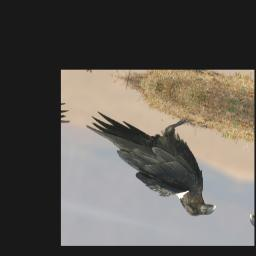Crow: (72, 91, 236, 223)
